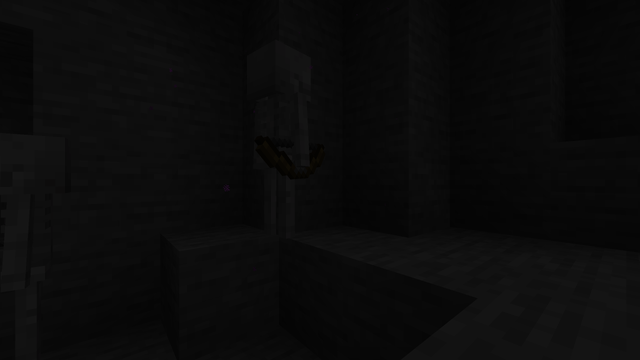squelettes: (2, 135, 79, 358), (242, 36, 316, 244)
